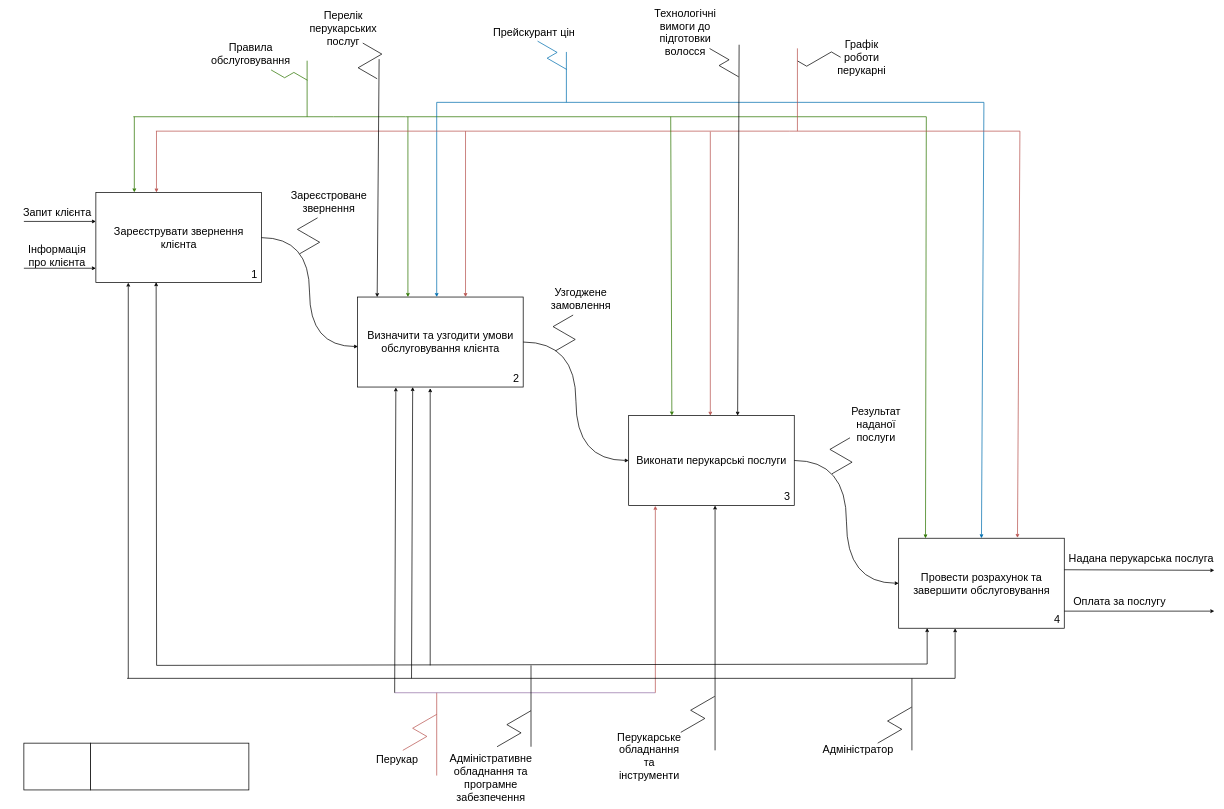
The diagram is 1224 pixels wide and 809 high, and some of its shapes have lost their labels. The centre of each missing label's shape, as x and y in pixels:
"A0" goes at point 57,766.
"Обслужити клієнта в перукарні" goes at point 169,766.
